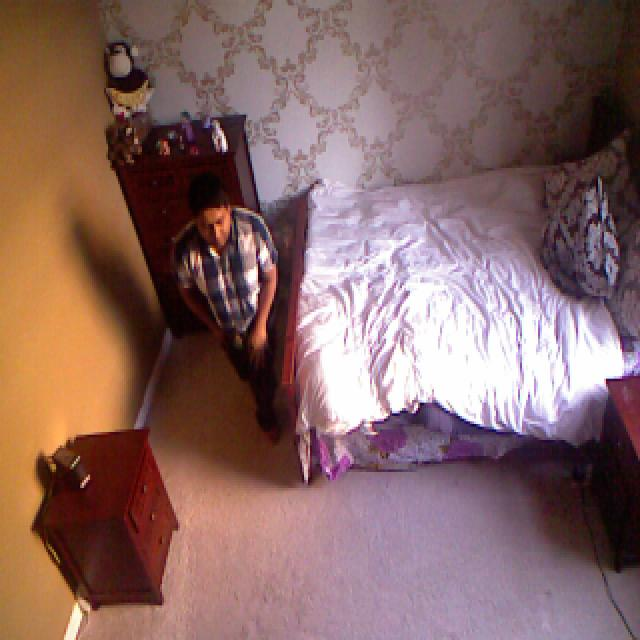standing: (162, 172, 286, 454)
